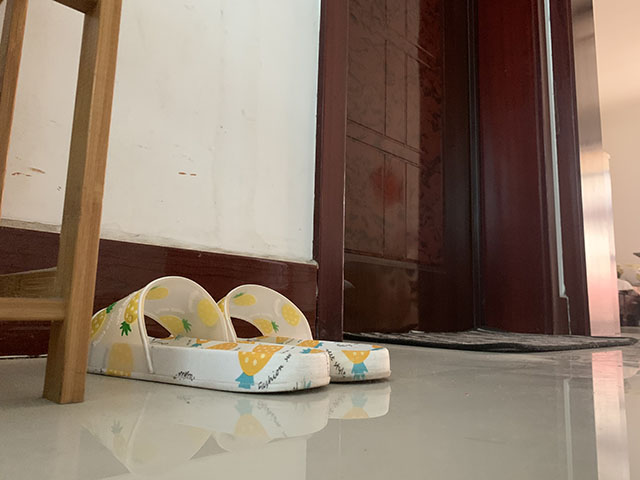carpet: (341, 325, 640, 356)
slippers: (88, 272, 333, 396), (228, 280, 391, 382)
